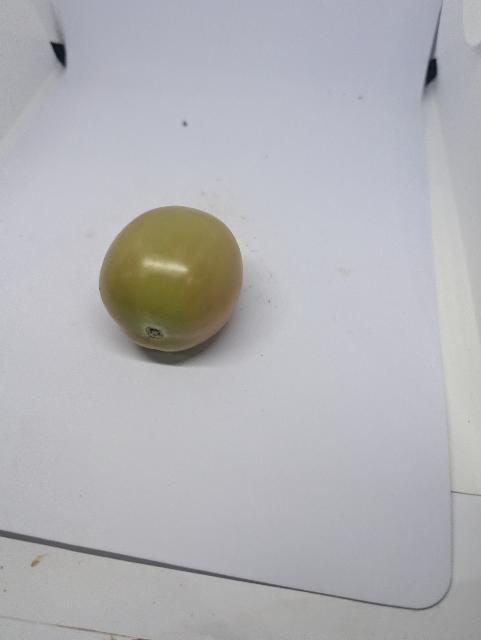breaker: (99, 206, 243, 352)
